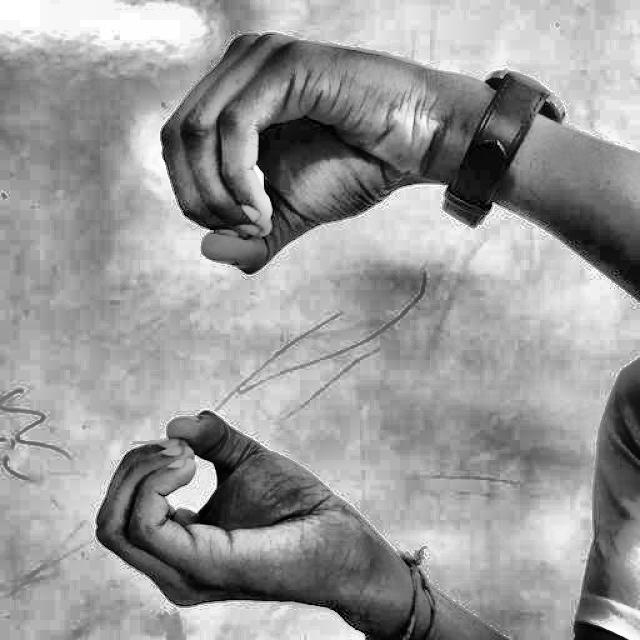Bisharga: (80, 9, 460, 636)
